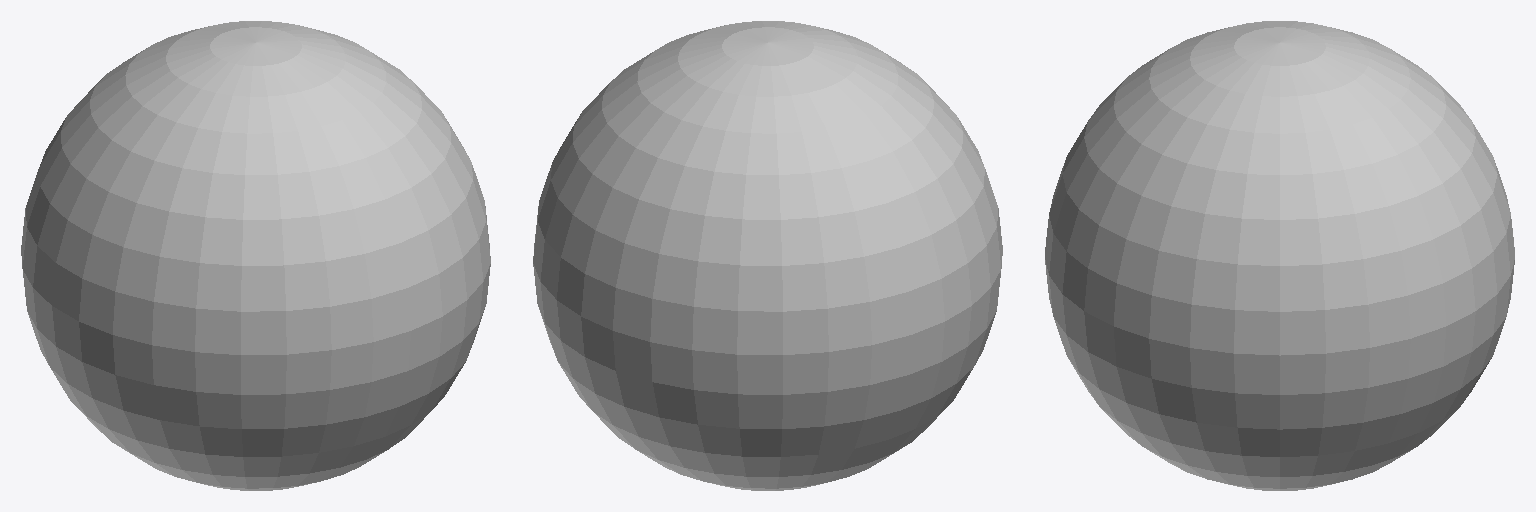
File: boll.obj
3 renders of one model, left to right at view 1: azimuth 30°, elevation 25°; view 2: azimuth 150°, elevation 25°; view 3: azimuth 270°, elevation 25°, orthographic.
Visible parts, largest first — view 1: 球.004; view 2: 球.004; view 3: 球.004.
Part boxes in pixels (bbox=[...]): 球.004: bbox=[21, 21, 490, 490]; 球.004: bbox=[533, 21, 1002, 490]; 球.004: bbox=[1045, 21, 1514, 490].
Size of the model in its own units: 0.2362 by 0.2362 by 0.2362.